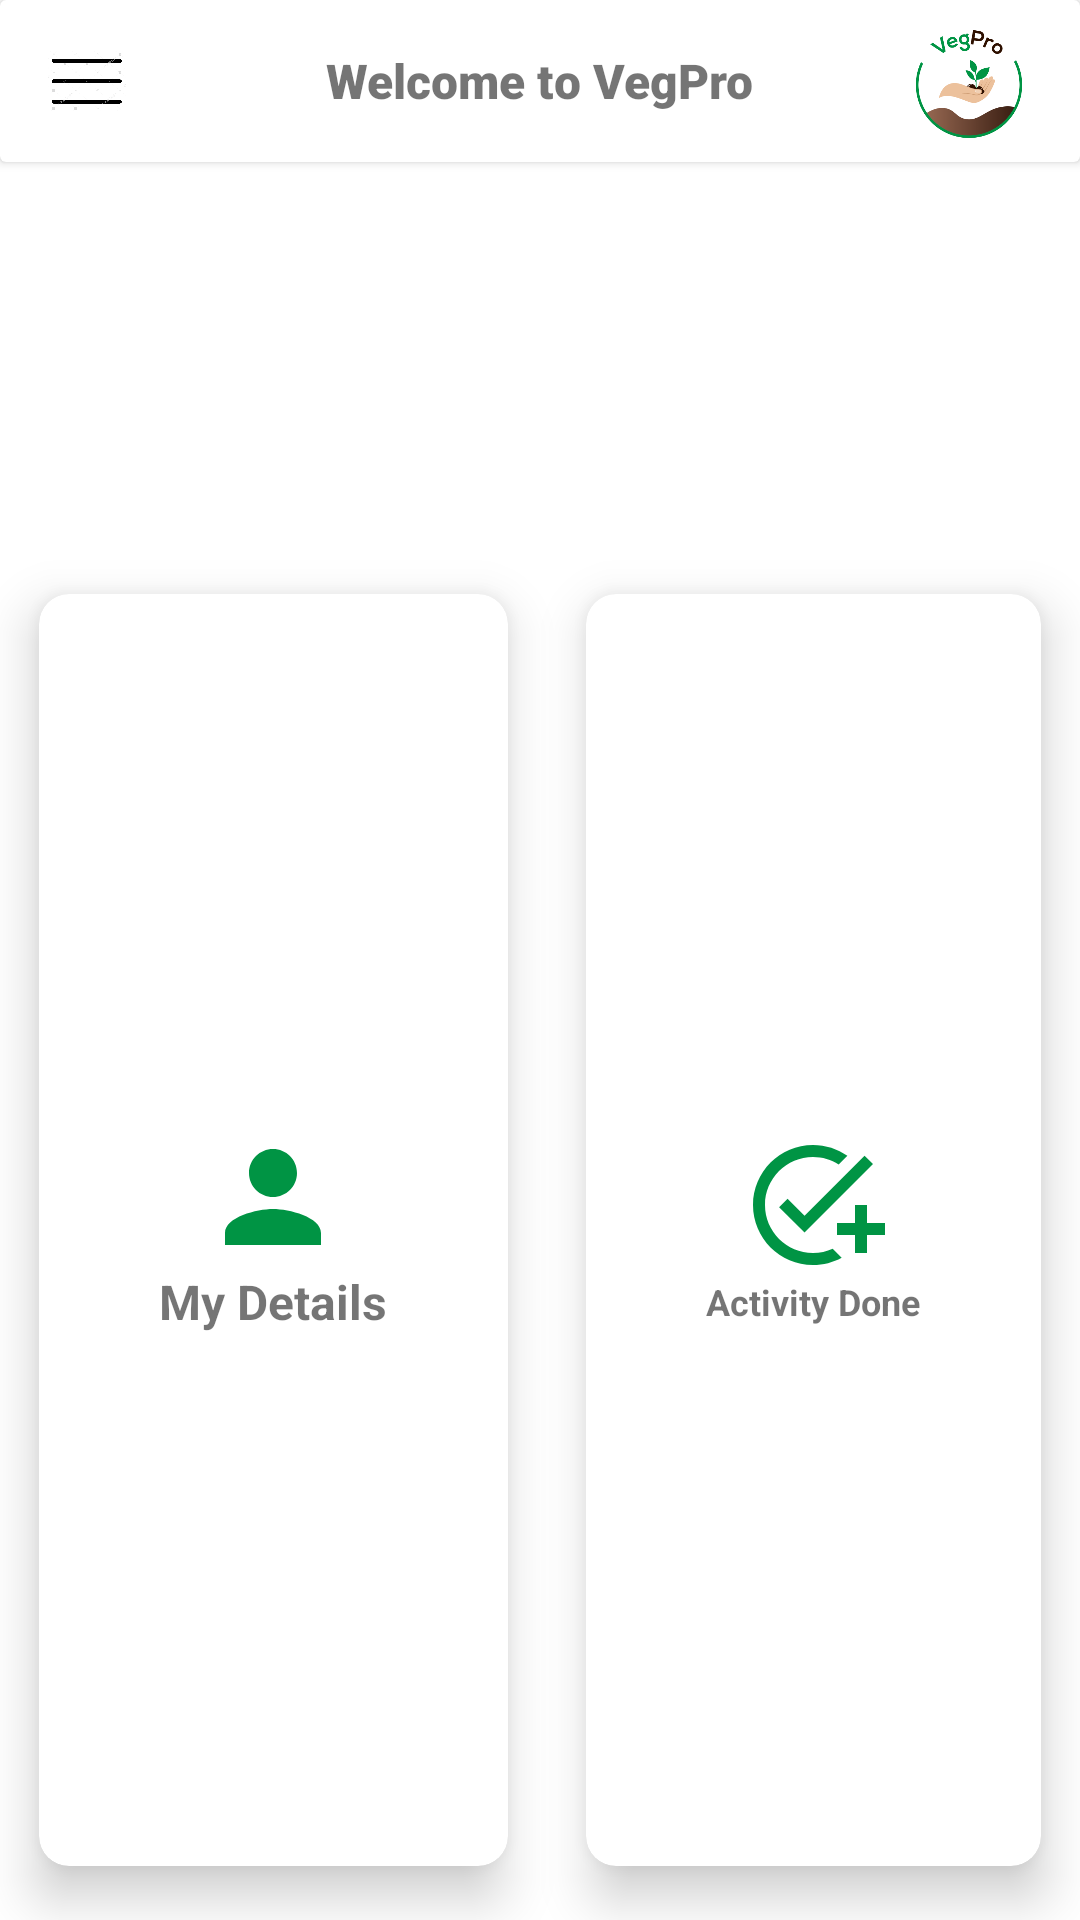

Icons on this 1080w x 1920h Android screen, each with the point to tap as (x=x, y=y):
add task: (x=819, y=1205)
drawer: (x=87, y=81)
person: (x=273, y=1197)
